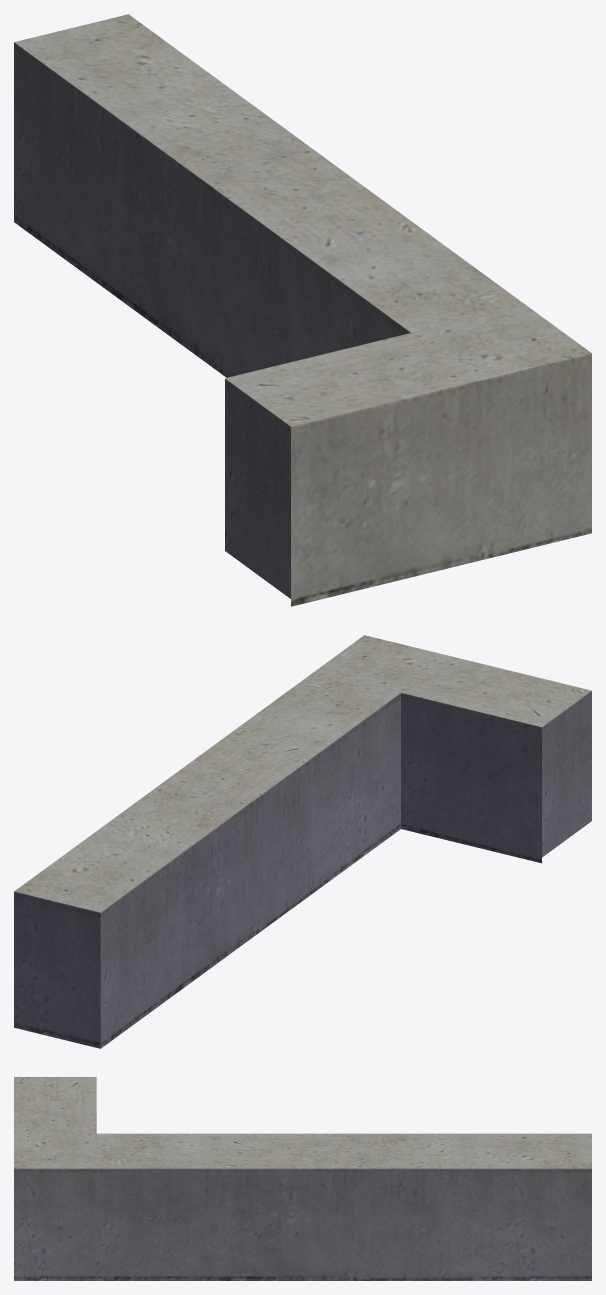
The picture shows the model from 3 angles, top to bottom: view 1: azimuth 30°, elevation 25°; view 2: azimuth 150°, elevation 25°; view 3: azimuth 270°, elevation 25°; orthographic projection. The views are drawn at different scales.
Visible parts, largest first — view 1: Joint_0_Object_0, Joint_0_Object_1; view 2: Joint_0_Object_0, Joint_0_Object_1; view 3: Joint_0_Object_0, Joint_0_Object_1.
Boxes of the visible parts, x1,y1,x2,y2 form: Joint_0_Object_0: (14,42,591,606); Joint_0_Object_1: (14,14,591,426); Joint_0_Object_0: (14,691,591,1048); Joint_0_Object_1: (14,635,591,912); Joint_0_Object_0: (14,1168,591,1280); Joint_0_Object_1: (14,1077,591,1168).
Size of the model in its own units: 1050 by 600 by 2800.
2 materials, 2 textured.
